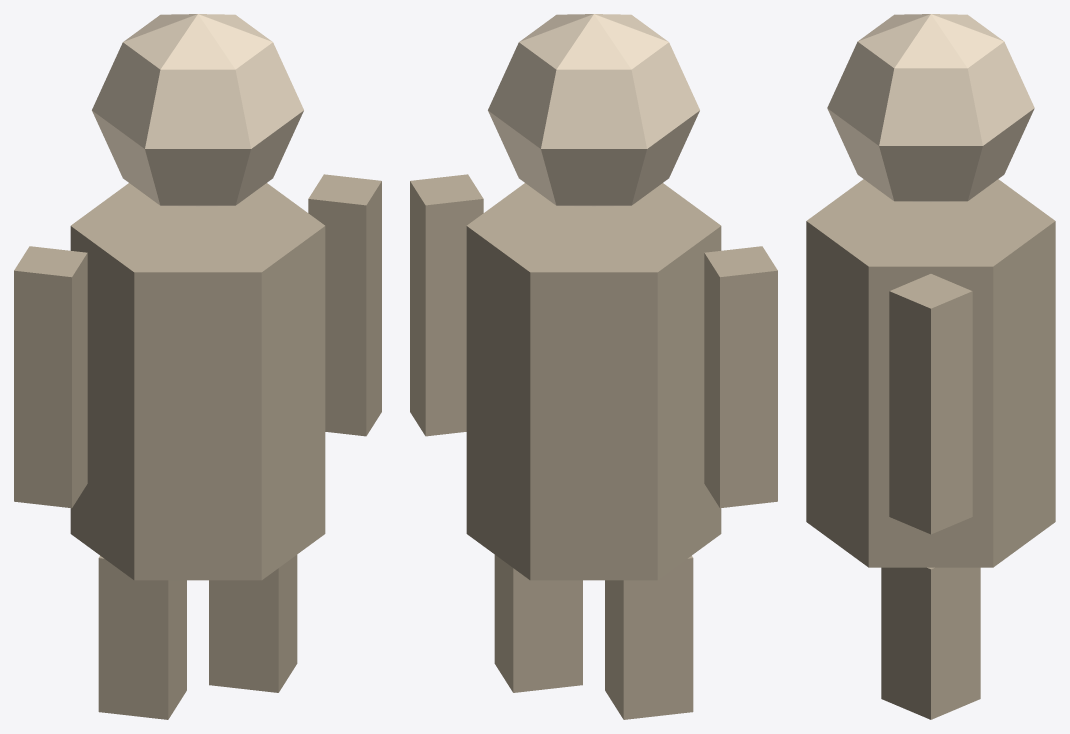
Rendered from winemaker.glb.
3 renders of one model, left to right at view 1: azimuth 30°, elevation 25°; view 2: azimuth 150°, elevation 25°; view 3: azimuth 270°, elevation 25°, orthographic. The views are drawn at different scales.
Visible parts, largest first — view 1: winemaker_torso, winemaker_head, winemaker_arm_l, winemaker_arm_r, winemaker_leg_l, winemaker_leg_r; view 2: winemaker_torso, winemaker_head, winemaker_arm_l, winemaker_arm_r, winemaker_leg_l, winemaker_leg_r; view 3: winemaker_torso, winemaker_head, winemaker_arm_r, winemaker_leg_r.
Boxes of the visible parts, x1,y1,x2,y2 form: winemaker_torso: (70, 183, 325, 580); winemaker_head: (92, 14, 303, 206); winemaker_arm_l: (14, 246, 87, 508); winemaker_arm_r: (308, 174, 381, 436); winemaker_leg_l: (98, 555, 186, 719); winemaker_leg_r: (209, 555, 297, 692); winemaker_torso: (466, 183, 721, 580); winemaker_head: (488, 14, 699, 206); winemaker_arm_l: (704, 246, 777, 508); winemaker_arm_r: (410, 174, 483, 436); winemaker_leg_l: (605, 555, 693, 719); winemaker_leg_r: (494, 555, 582, 692); winemaker_torso: (806, 179, 1055, 567); winemaker_head: (827, 14, 1034, 201); winemaker_arm_r: (889, 274, 972, 534); winemaker_leg_r: (881, 567, 980, 719).
Bounding box in the file's own units: 0.375 × 0.6562 × 0.225.
